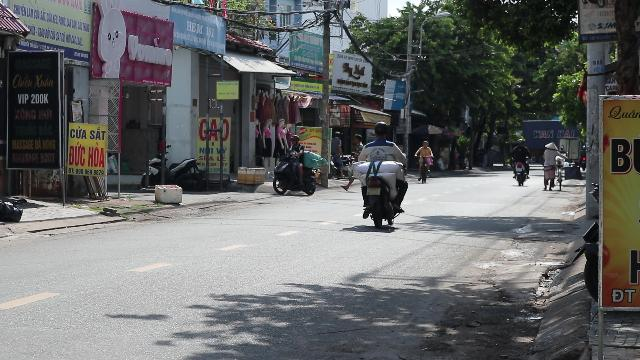helmet: (372, 121, 388, 137)
licenseplate: (368, 188, 380, 194)
motorcyclist: (350, 121, 408, 229)
